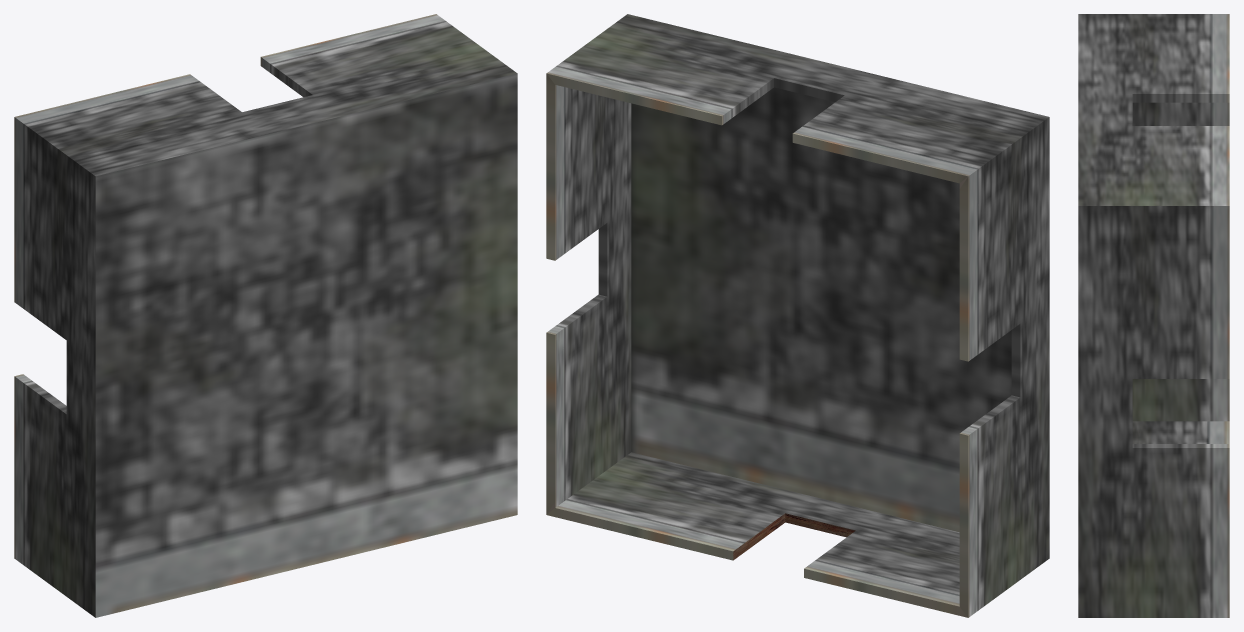
The model's file is 6x6NSEW_Stone_wtf.obj.
The picture shows the model from 3 angles, left to right: view 1: azimuth 30°, elevation 25°; view 2: azimuth 150°, elevation 25°; view 3: azimuth 270°, elevation 25°; orthographic projection. The views are drawn at different scales.
Parts seen in each view (by area): view 1: group2; view 2: group2; view 3: group2.
Boxes of the visible parts, x1,y1,x2,y2 form: group2: [14, 14, 517, 617]; group2: [546, 14, 1049, 617]; group2: [1078, 14, 1229, 617].
Bounding box in the file's own units: 660 × 660 × 220.
